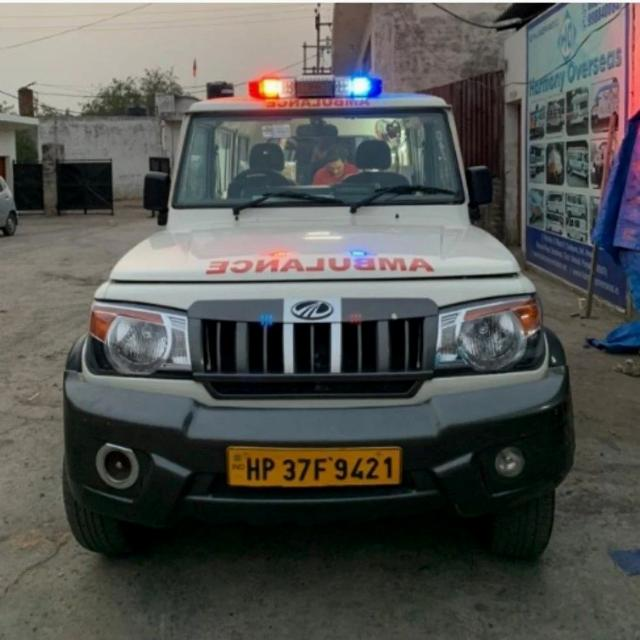ambulance: (60, 67, 572, 565)
